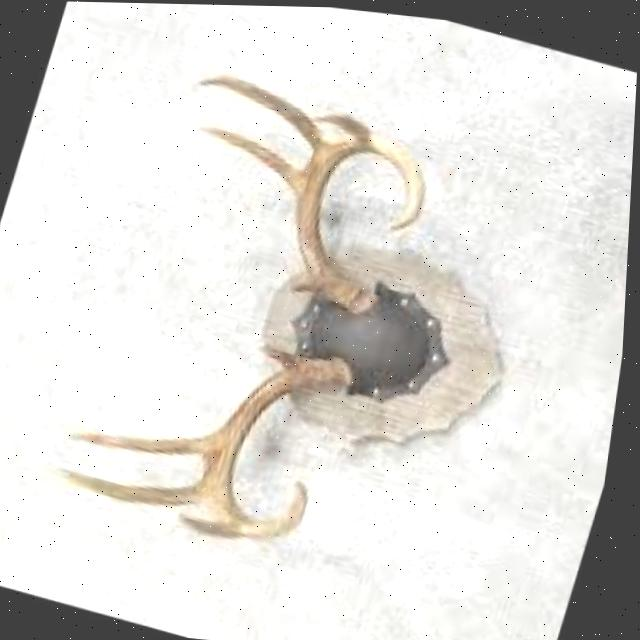L-F: (203, 352, 354, 539)
L-G1: (264, 342, 304, 369)
L-G2: (72, 427, 213, 458)
L-G3: (63, 466, 209, 507)
L-G4: (181, 509, 244, 538)
R-F: (295, 132, 427, 310)
R-G1: (284, 273, 327, 293)
R-G2: (197, 124, 304, 195)
R-G3: (195, 73, 326, 148)
R-G4: (314, 112, 372, 138)
